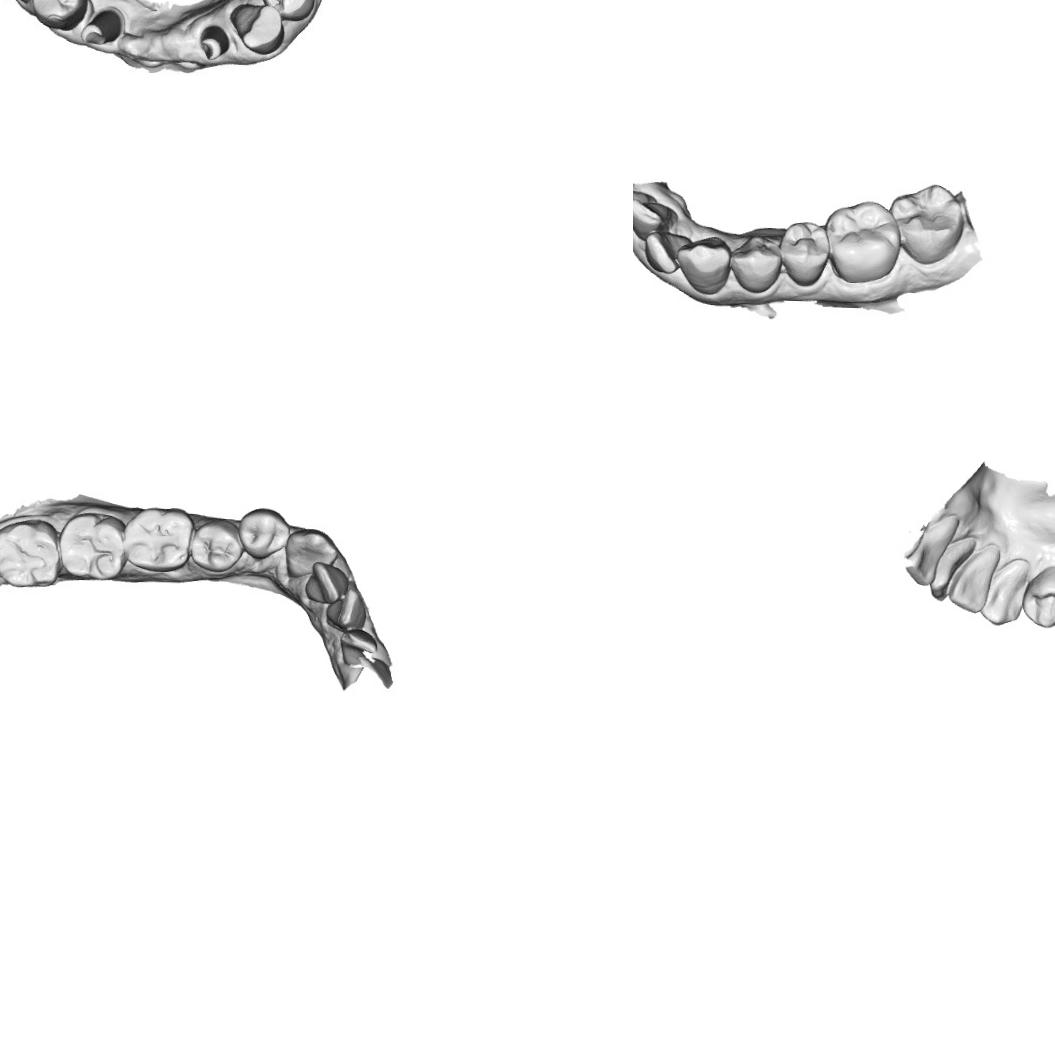abutment: (80, 4, 124, 52), (193, 23, 231, 62)
canine: (979, 554, 1032, 628), (674, 233, 733, 296), (282, 524, 340, 584), (227, 0, 285, 56)
incisor: (903, 511, 959, 588), (945, 542, 1003, 616), (926, 534, 977, 608), (641, 225, 695, 283), (302, 558, 352, 609), (336, 624, 382, 671), (324, 585, 370, 630), (633, 186, 672, 235), (633, 177, 650, 224)
molar: (886, 179, 970, 268), (822, 198, 901, 287), (56, 509, 129, 583), (122, 503, 195, 573), (0, 516, 61, 591)
premolar: (726, 228, 788, 295), (776, 218, 829, 288), (187, 515, 245, 574), (234, 505, 290, 561), (1020, 563, 1055, 632), (28, 0, 88, 33), (258, 0, 316, 21)
